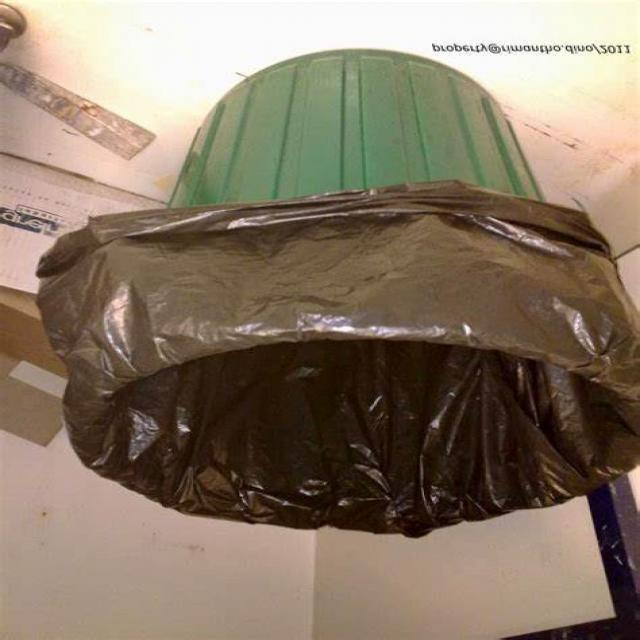garbage container: (31, 46, 640, 555)
